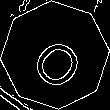O_NE: (22, 22, 88, 88)
